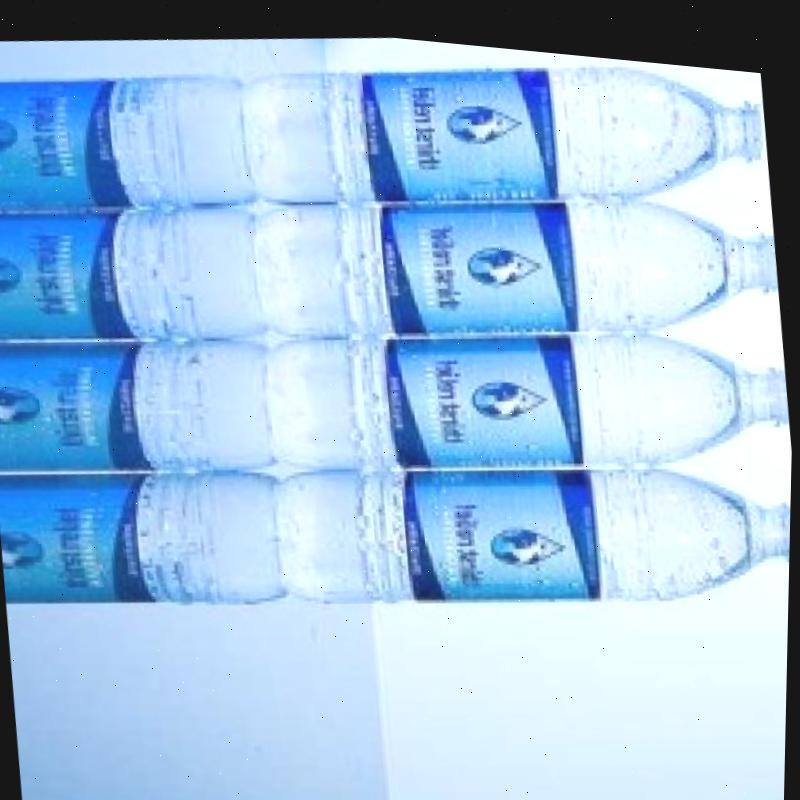botella: (335, 148, 785, 362), (350, 281, 796, 494), (355, 413, 793, 626), (319, 24, 773, 227)
